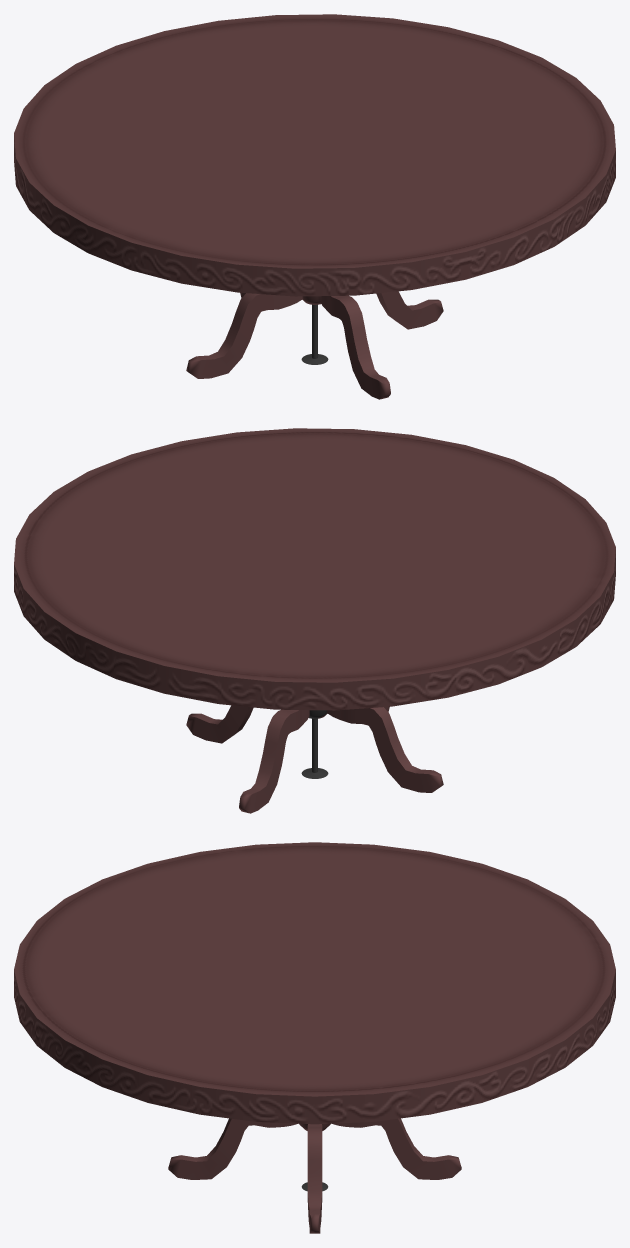
Rendered from Table.obj.
3 views of the same model, one above another, from view 1: azimuth 30°, elevation 25°; view 2: azimuth 150°, elevation 25°; view 3: azimuth 270°, elevation 25° (orthographic).
Parts seen in each view (by area): view 1: Table; view 2: Table; view 3: Table.
Part boxes in pixels (box(x1,y1,x2,y2)): Table: box(14, 14, 615, 399); Table: box(14, 428, 615, 813); Table: box(14, 842, 615, 1233).
Bounding box in the file's own units: 3.97 × 1.58 × 3.97.
1 material, 1 textured.
